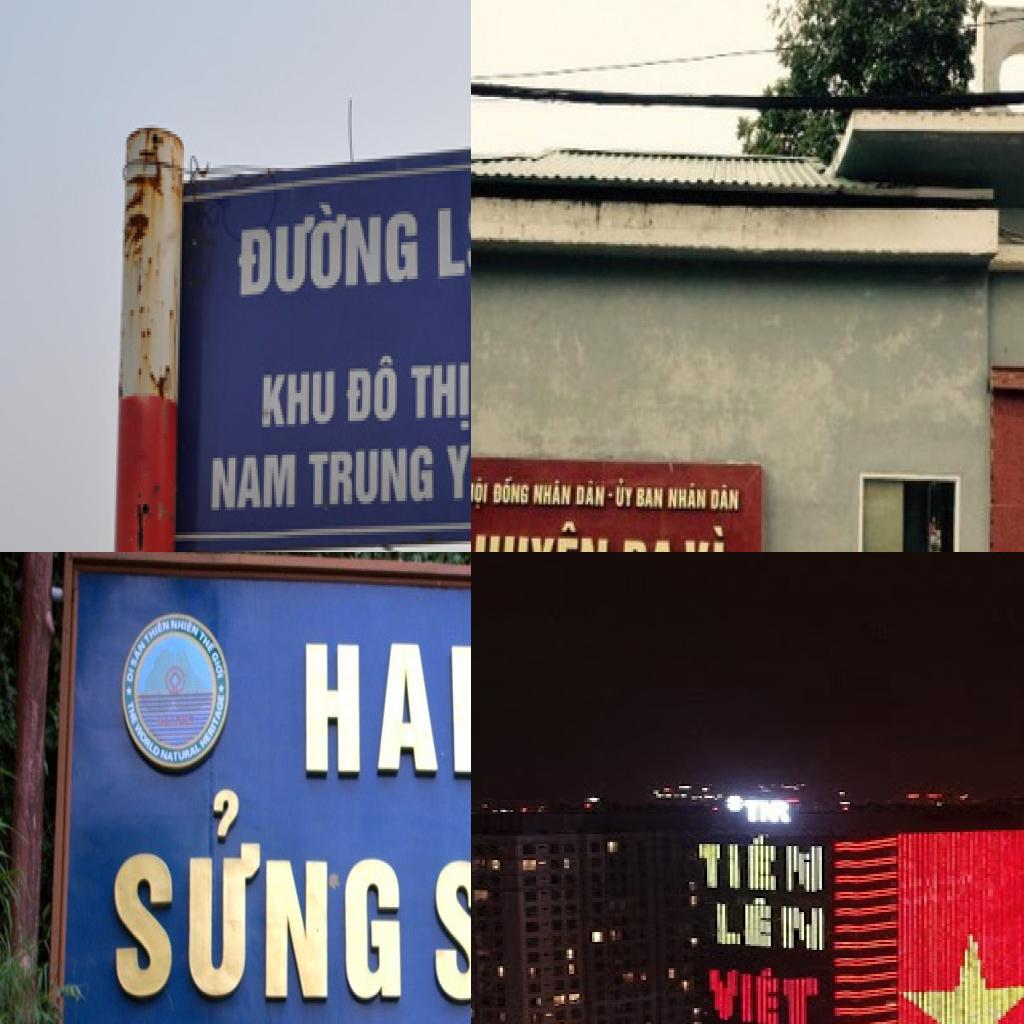text: (110, 785, 402, 1001), (305, 641, 471, 781), (233, 186, 422, 300), (689, 830, 830, 898), (305, 442, 436, 514), (706, 960, 824, 1024), (204, 448, 301, 520), (712, 896, 830, 954), (258, 368, 340, 434), (409, 356, 471, 439), (471, 517, 612, 552), (342, 353, 399, 433), (431, 189, 471, 288), (446, 430, 471, 504), (198, 708, 230, 756), (668, 481, 708, 517), (679, 523, 727, 552), (131, 720, 162, 761), (492, 476, 531, 508), (532, 478, 572, 508), (708, 483, 744, 515), (158, 742, 207, 764), (139, 615, 170, 648), (636, 483, 667, 515), (618, 536, 679, 552), (575, 481, 609, 509), (170, 612, 203, 640), (471, 476, 492, 513), (125, 635, 147, 670), (614, 479, 634, 513), (210, 646, 229, 681), (740, 798, 763, 826), (197, 626, 218, 656), (125, 700, 140, 728), (125, 665, 136, 684)
